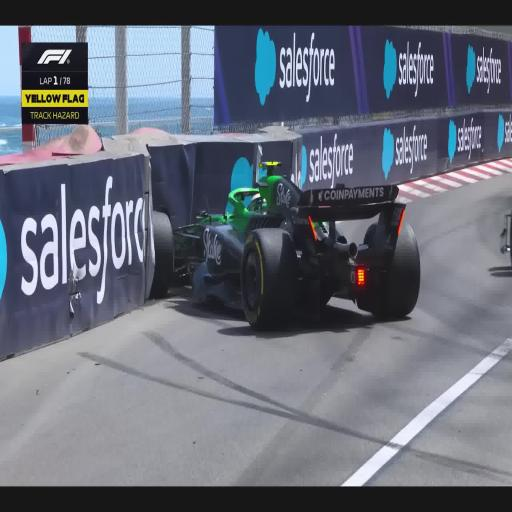f1_car: (170, 162, 420, 327), (155, 229, 158, 243), (154, 270, 158, 279), (167, 261, 173, 267), (154, 218, 158, 224), (160, 262, 162, 266), (167, 270, 168, 271), (157, 261, 158, 262)
